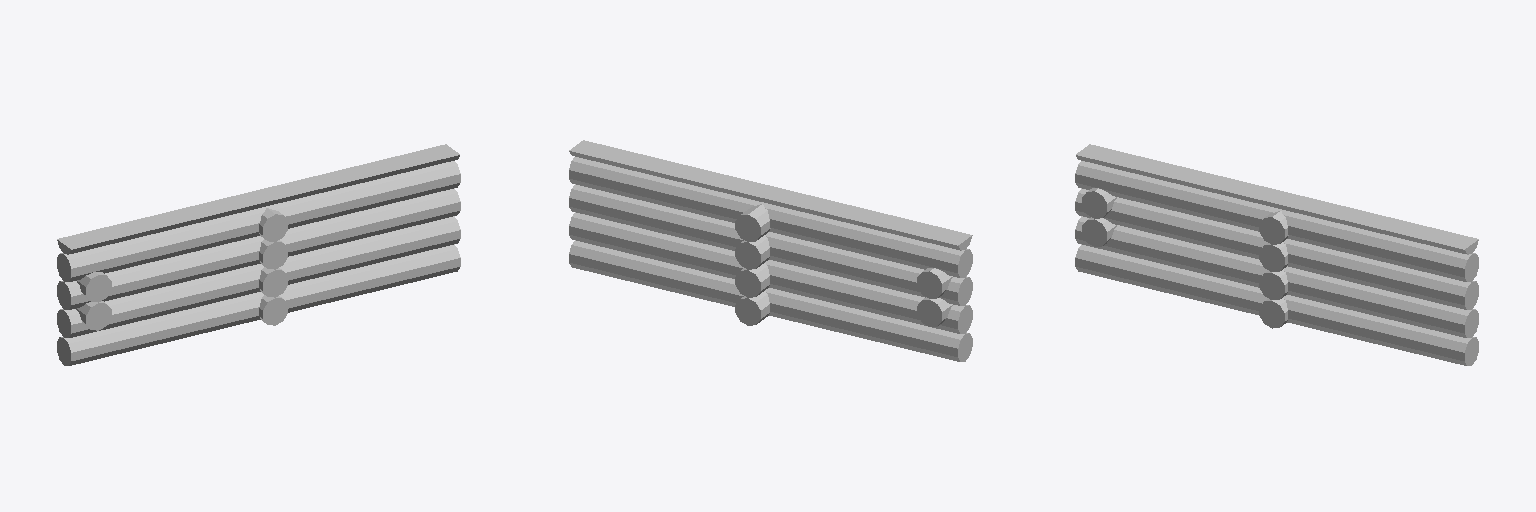
Rendered from Dews Houseblend Right Wall.obj.
3 renders of one model, left to right at view 1: azimuth 30°, elevation 25°; view 2: azimuth 150°, elevation 25°; view 3: azimuth 330°, elevation 25°, orthographic.
Parts seen in each view (by area): view 1: Cylinder.018, Cylinder.001, Cylinder.016, Cylinder.017, Cylinder.019, Cylinder.007, Cylinder.051, Cylinder.004, Cylinder.048, Cylinder.049, Cylinder.050; view 2: Cylinder.018, Cylinder.001, Cylinder.016, Cylinder.017, Cylinder.019, Cylinder.051, Cylinder.049, Cylinder.048, Cylinder.050, Cylinder.007, Cylinder.004; view 3: Cylinder.018, Cylinder.001, Cylinder.016, Cylinder.017, Cylinder.019, Cylinder.007, Cylinder.051, Cylinder.004, Cylinder.048, Cylinder.049, Cylinder.050.
Boxes of the visible parts, x1=… form: Cylinder.018: x1=57, y1=161, x2=460, y2=281; Cylinder.001: x1=57, y1=244, x2=460, y2=365; Cylinder.016: x1=57, y1=216, x2=460, y2=337; Cylinder.017: x1=57, y1=188, x2=460, y2=309; Cylinder.019: x1=57, y1=144, x2=459, y2=254; Cylinder.007: x1=77, y1=272, x2=111, y2=302; Cylinder.051: x1=259, y1=208, x2=287, y2=241; Cylinder.004: x1=76, y1=301, x2=111, y2=330; Cylinder.048: x1=259, y1=295, x2=287, y2=325; Cylinder.049: x1=259, y1=267, x2=287, y2=297; Cylinder.050: x1=259, y1=239, x2=287, y2=269; Cylinder.018: x1=569, y1=157, x2=972, y2=277; Cylinder.001: x1=569, y1=240, x2=972, y2=361; Cylinder.016: x1=569, y1=212, x2=972, y2=333; Cylinder.017: x1=569, y1=184, x2=972, y2=305; Cylinder.019: x1=569, y1=140, x2=972, y2=250; Cylinder.051: x1=735, y1=204, x2=770, y2=241; Cylinder.049: x1=735, y1=263, x2=769, y2=297; Cylinder.048: x1=735, y1=291, x2=769, y2=325; Cylinder.050: x1=735, y1=235, x2=769, y2=269; Cylinder.007: x1=917, y1=268, x2=952, y2=298; Cylinder.004: x1=917, y1=297, x2=952, y2=326; Cylinder.018: x1=1075, y1=161, x2=1478, y2=281; Cylinder.001: x1=1075, y1=244, x2=1478, y2=365; Cylinder.016: x1=1075, y1=216, x2=1478, y2=337; Cylinder.017: x1=1075, y1=188, x2=1478, y2=309; Cylinder.019: x1=1076, y1=144, x2=1478, y2=254; Cylinder.007: x1=1082, y1=188, x2=1116, y2=218; Cylinder.051: x1=1259, y1=211, x2=1288, y2=244; Cylinder.004: x1=1082, y1=217, x2=1116, y2=246; Cylinder.048: x1=1259, y1=298, x2=1287, y2=328; Cylinder.049: x1=1259, y1=269, x2=1287, y2=299; Cylinder.050: x1=1259, y1=242, x2=1287, y2=271.
Size of the model in its own units: 11.1 by 3.33 by 1.39.